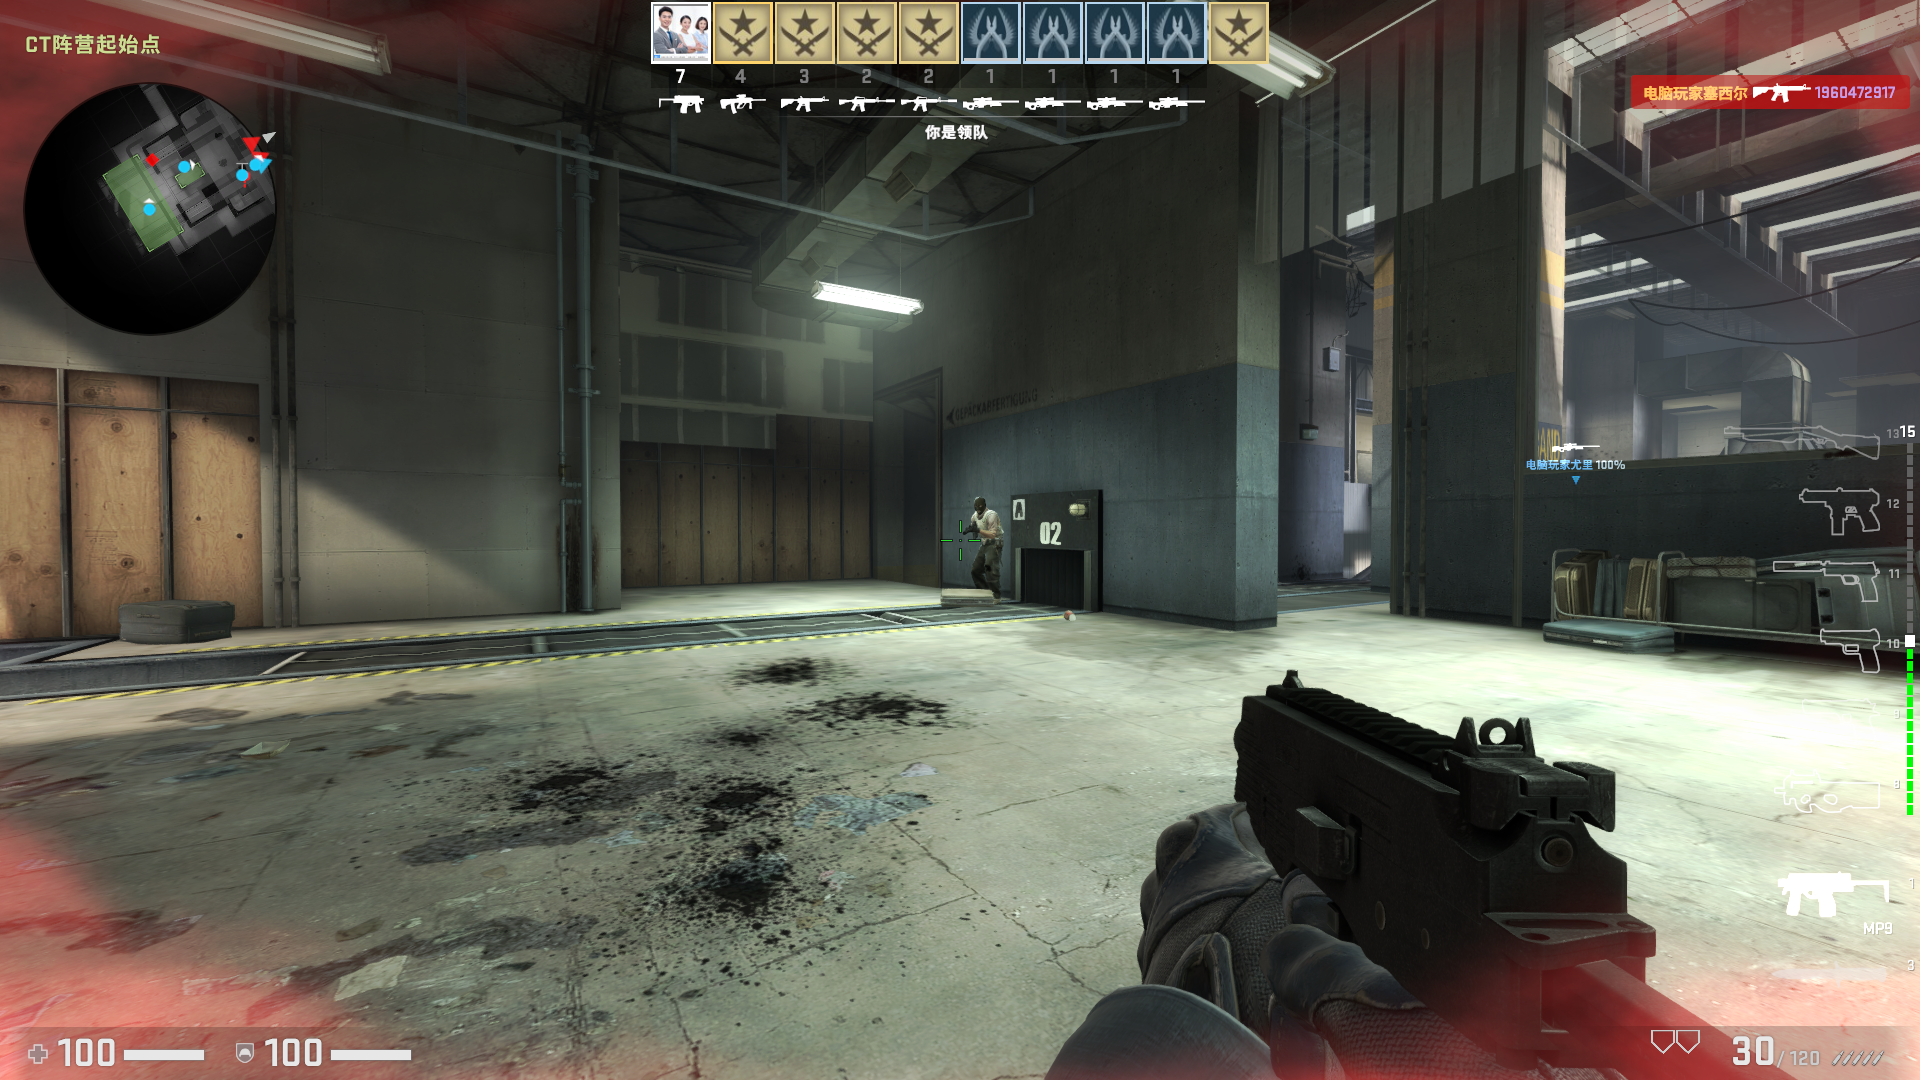person: (963, 493, 1011, 599)
